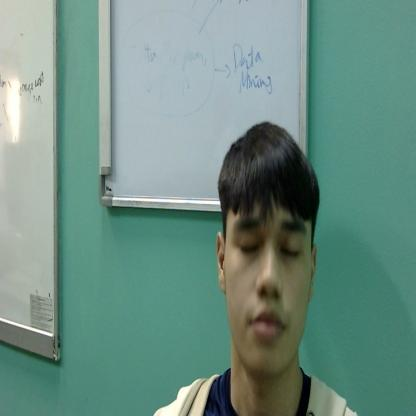Closed-Eyes: (224, 211, 317, 269)
